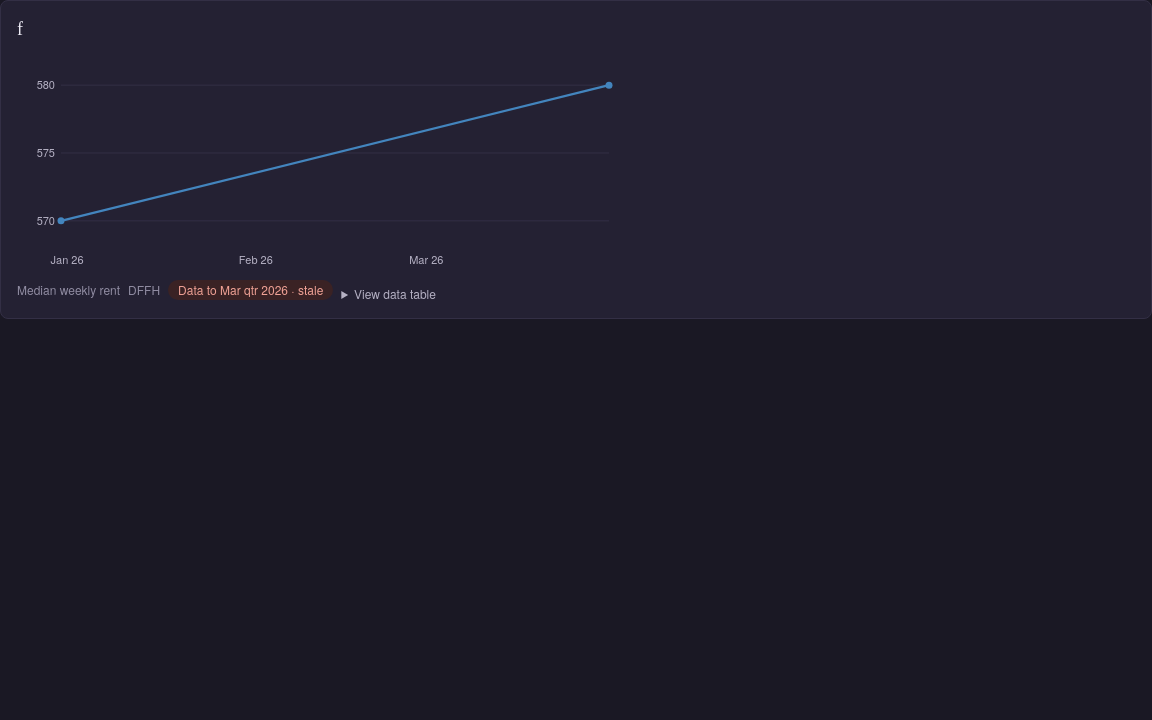
Test: caption chip opens the explainer without opening the modal
What coordinates should you click on to do the following:
click the button with aria-label "· stale — why?"
I would click on:
 (251, 290)
Its box is [168, 280, 333, 300].
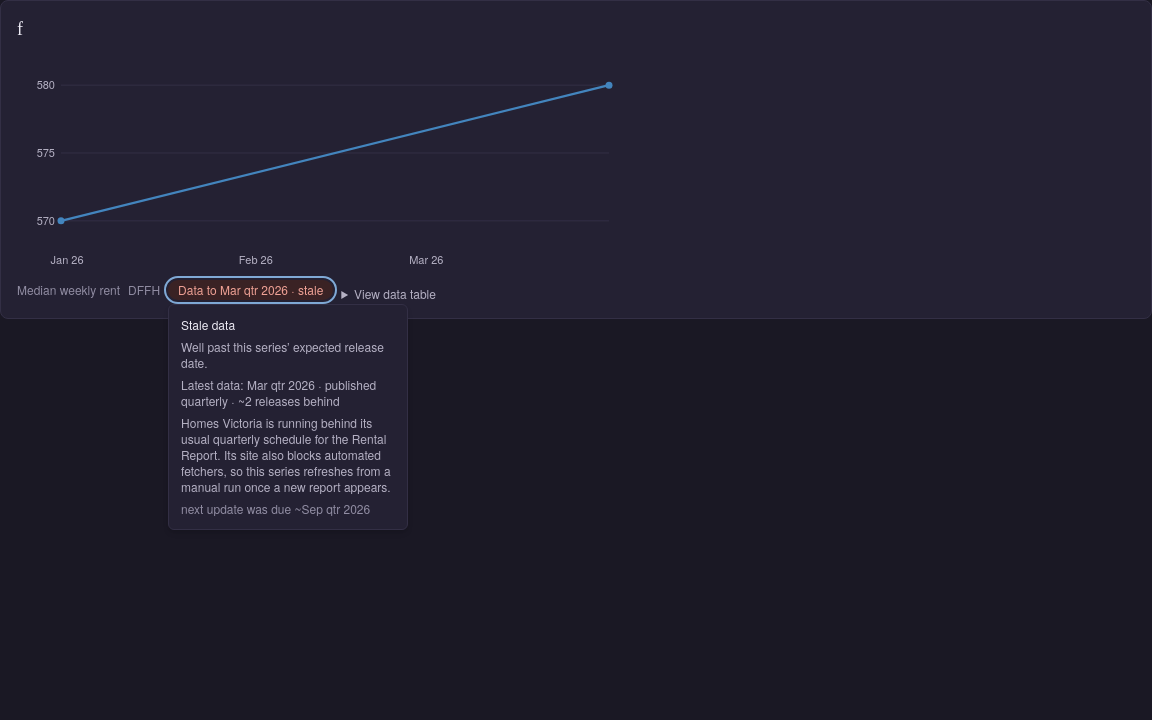
Result: the element named "Stale data — details" is shown at [168, 304, 408, 530]
